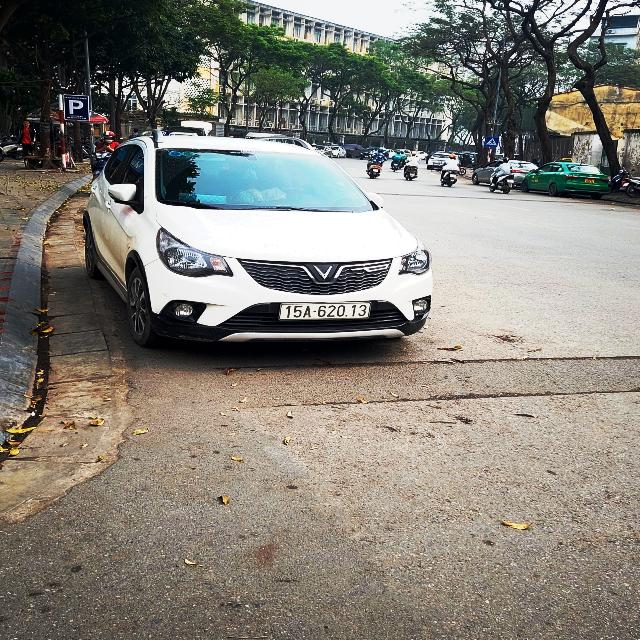license_plate: (281, 303, 371, 321)
